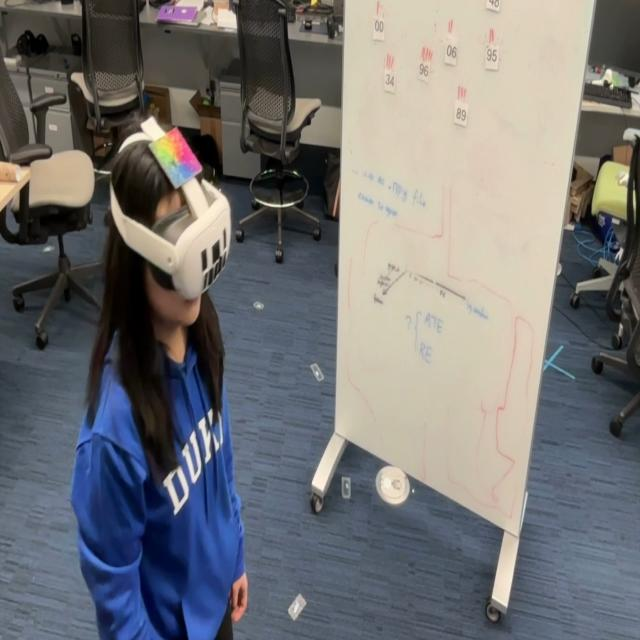Headset: (108, 134, 232, 300)
Marker: (160, 124, 203, 194)
